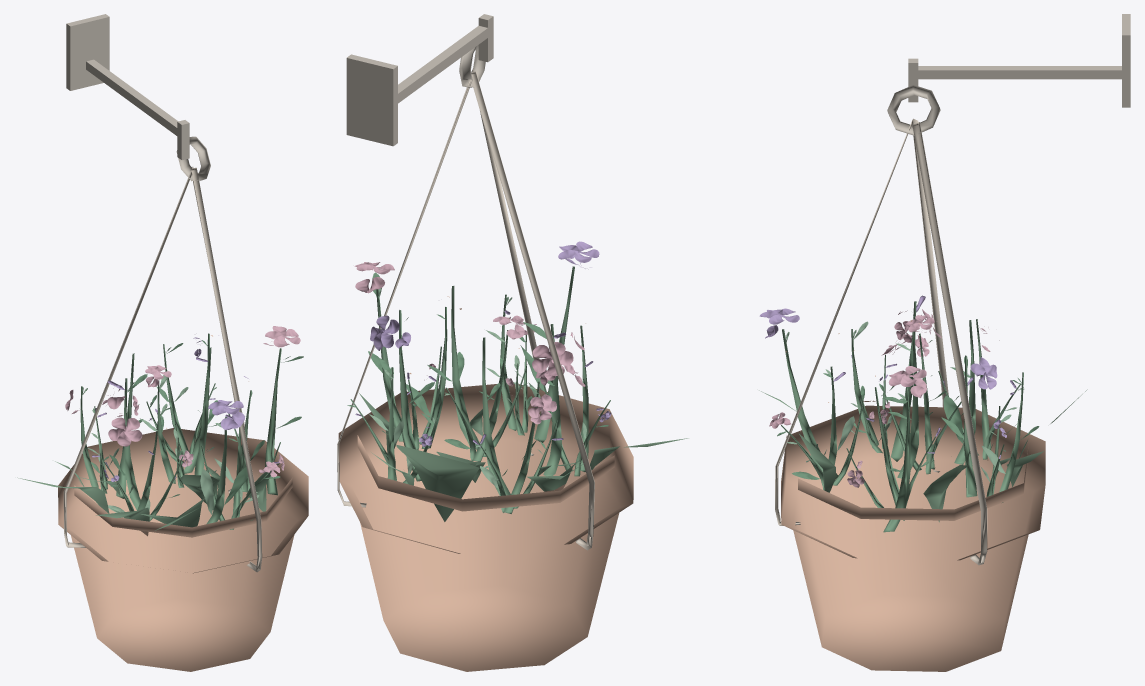
Rendered from planter_hang.glb.
3 renders of one model, left to right at view 1: azimuth 30°, elevation 25°; view 2: azimuth 150°, elevation 25°; view 3: azimuth 270°, elevation 25°, orthographic. The views are drawn at different scales.
Visible parts, largest first — view 1: planter_hang_solid_#F7CDB4, planter_hang_solid_#8DB596, planter_hang_solid_#E9E1D6, planter_hang_solid_#F6EBDD, planter_hang_solid_#9CC3A4, planter_hang_solid_#F0C4D4, planter_hang_solid_#7FA98A, planter_hang_solid_#A6C9AE, planter_hang_solid_#CDB8E8; view 2: planter_hang_solid_#F7CDB4, planter_hang_solid_#8DB596, planter_hang_solid_#E9E1D6, planter_hang_solid_#F6EBDD, planter_hang_solid_#9CC3A4, planter_hang_solid_#F0C4D4, planter_hang_solid_#CDB8E8, planter_hang_solid_#7FA98A, planter_hang_solid_#A6C9AE; view 3: planter_hang_solid_#F7CDB4, planter_hang_solid_#8DB596, planter_hang_solid_#F6EBDD, planter_hang_solid_#E9E1D6, planter_hang_solid_#F0C4D4, planter_hang_solid_#9CC3A4, planter_hang_solid_#CDB8E8, planter_hang_solid_#7FA98A, planter_hang_solid_#A6C9AE.
Part boxes in pixels (box(x1,y1,x2,y2)): planter_hang_solid_#F7CDB4: box(58, 335, 308, 671); planter_hang_solid_#8DB596: box(80, 333, 281, 529); planter_hang_solid_#E9E1D6: box(66, 14, 210, 181); planter_hang_solid_#F6EBDD: box(63, 166, 262, 572); planter_hang_solid_#9CC3A4: box(17, 461, 280, 530); planter_hang_solid_#F0C4D4: box(65, 326, 300, 477); planter_hang_solid_#7FA98A: box(82, 340, 303, 520); planter_hang_solid_#A6C9AE: box(82, 347, 259, 514); planter_hang_solid_#CDB8E8: box(92, 335, 283, 481); planter_hang_solid_#F7CDB4: box(338, 296, 633, 671); planter_hang_solid_#8DB596: box(350, 266, 610, 513); planter_hang_solid_#E9E1D6: box(346, 14, 493, 146); planter_hang_solid_#F6EBDD: box(337, 70, 594, 550); planter_hang_solid_#9CC3A4: box(359, 393, 688, 521); planter_hang_solid_#F0C4D4: box(354, 262, 585, 424); planter_hang_solid_#CDB8E8: box(355, 241, 611, 447); planter_hang_solid_#7FA98A: box(347, 272, 608, 475); planter_hang_solid_#A6C9AE: box(369, 288, 586, 487); planter_hang_solid_#F7CDB4: box(781, 320, 1045, 671); planter_hang_solid_#8DB596: box(781, 301, 1023, 532); planter_hang_solid_#F6EBDD: box(775, 118, 987, 565); planter_hang_solid_#E9E1D6: box(887, 14, 1130, 135); planter_hang_solid_#F0C4D4: box(769, 309, 999, 487); planter_hang_solid_#9CC3A4: box(759, 389, 1087, 522); planter_hang_solid_#CDB8E8: box(759, 295, 1016, 479); planter_hang_solid_#7FA98A: box(777, 316, 1039, 479); planter_hang_solid_#A6C9AE: box(785, 321, 1024, 482).
Bounding box in the file's own units: 0.5033 × 0.9273 × 0.55.
